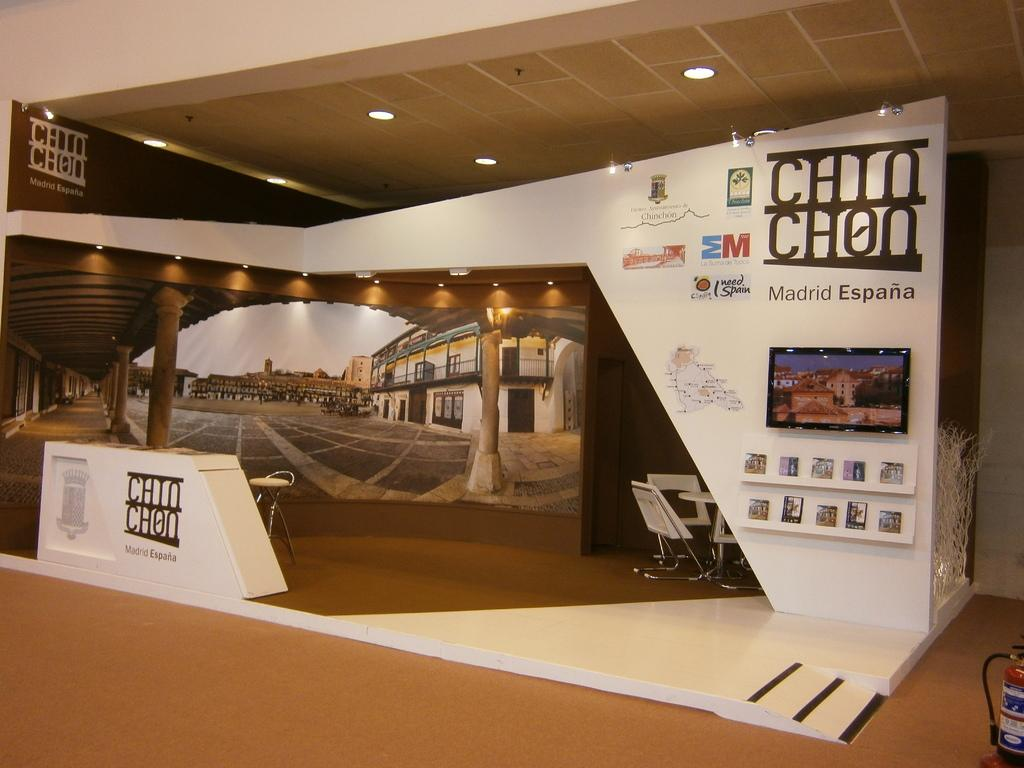Chair: (627, 479, 713, 579)
